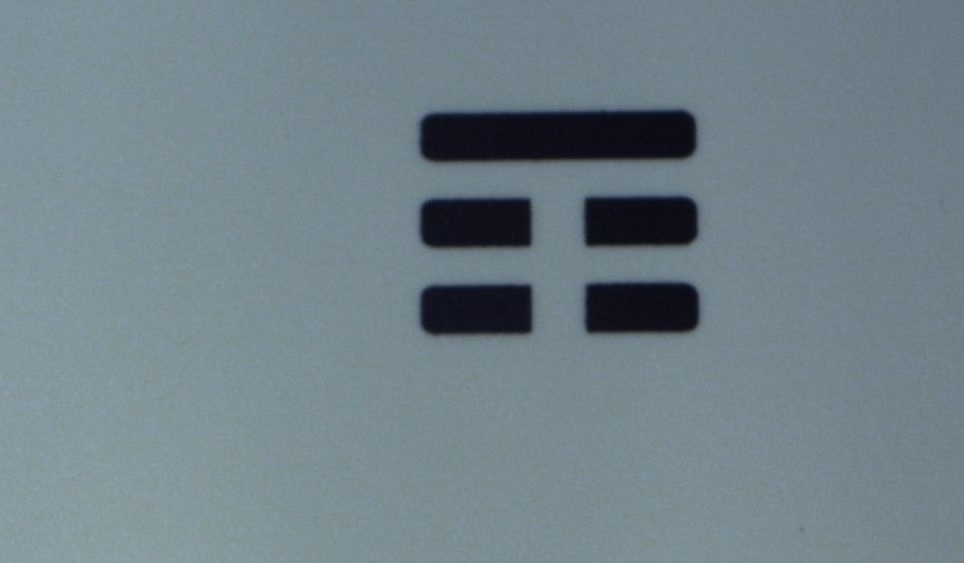BV_F6600PTIM: (385, 86, 717, 359)
